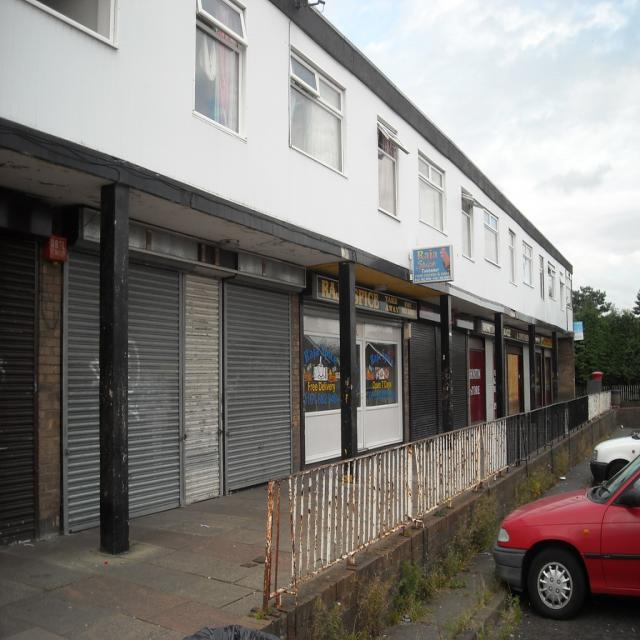other: (488, 460, 640, 622), (591, 430, 639, 484)
